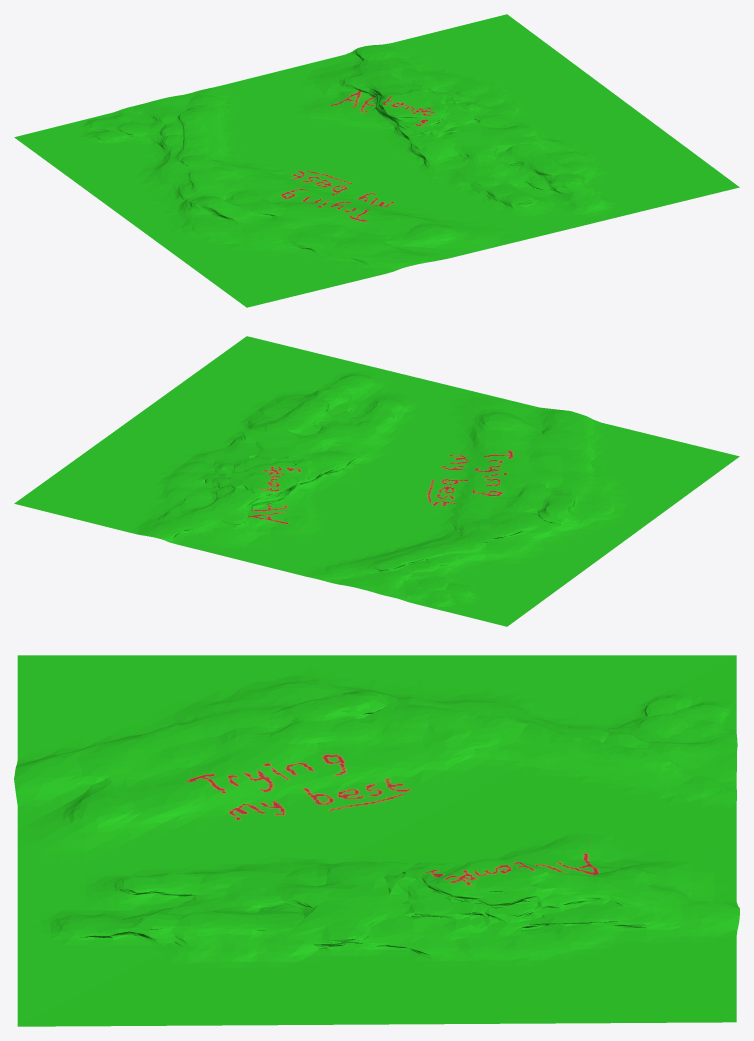
File: level.glb
3 renders of one model, top to bottom at view 1: azimuth 30°, elevation 25°; view 2: azimuth 150°, elevation 25°; view 3: azimuth 270°, elevation 25°, orthographic. The views are drawn at different scales.
Parts seen in each view (by area): view 1: Plane; view 2: Plane; view 3: Plane.
Boxes of the visible parts, bbox=[...] form: Plane: bbox=[14, 14, 739, 307]; Plane: bbox=[14, 336, 739, 626]; Plane: bbox=[14, 655, 739, 1026].
Bounding box in the file's own units: 32.72 × 0.8264 × 27.03.
1 material, 1 textured.
